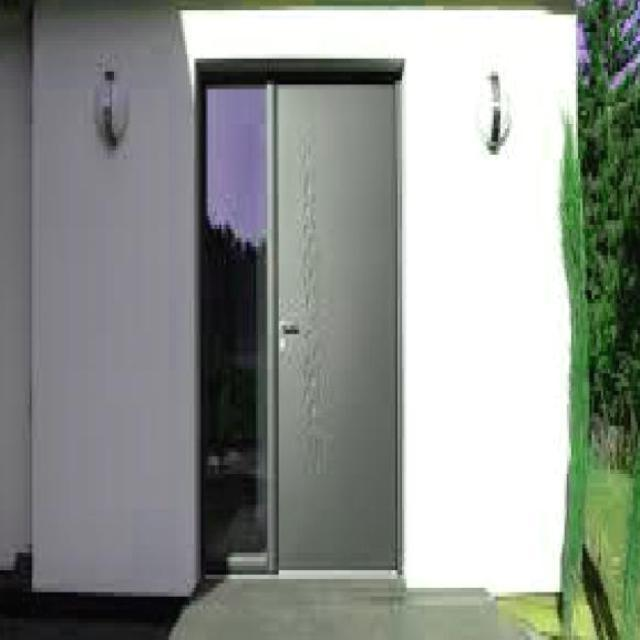door: (264, 37, 406, 608)
